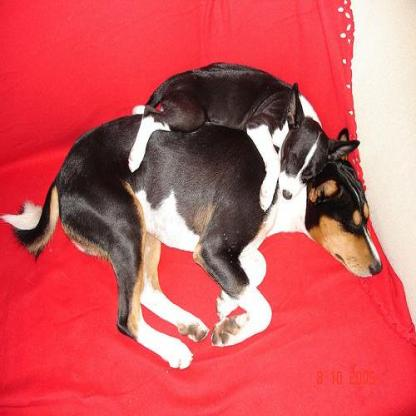basenji: (3, 110, 382, 369), (128, 60, 359, 212)
